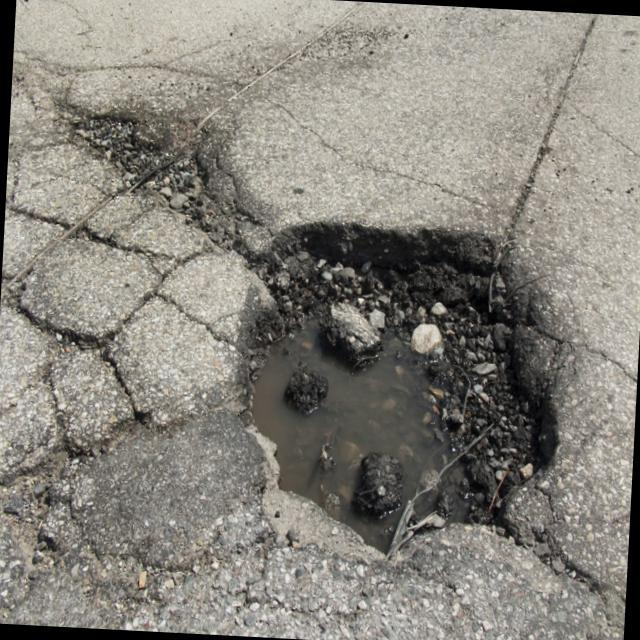Potholes: (175, 163, 608, 576)
